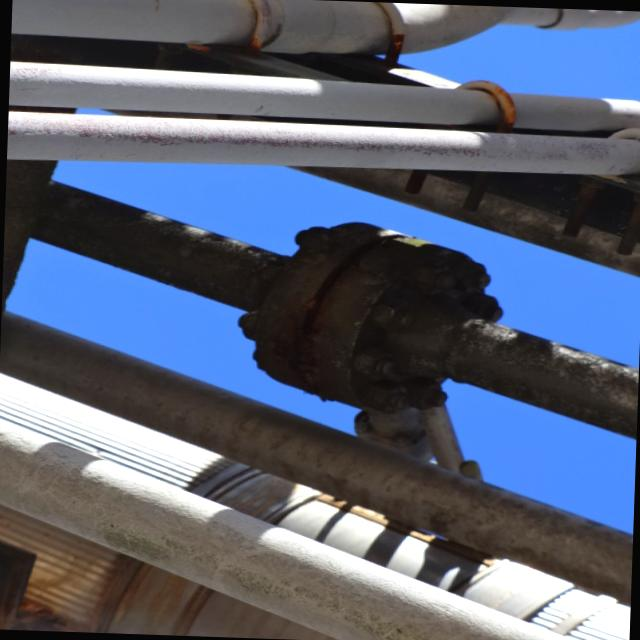gas: (0, 313, 633, 606), (3, 173, 638, 442), (0, 424, 573, 640), (8, 62, 640, 132), (8, 108, 640, 175), (12, 0, 640, 51)
